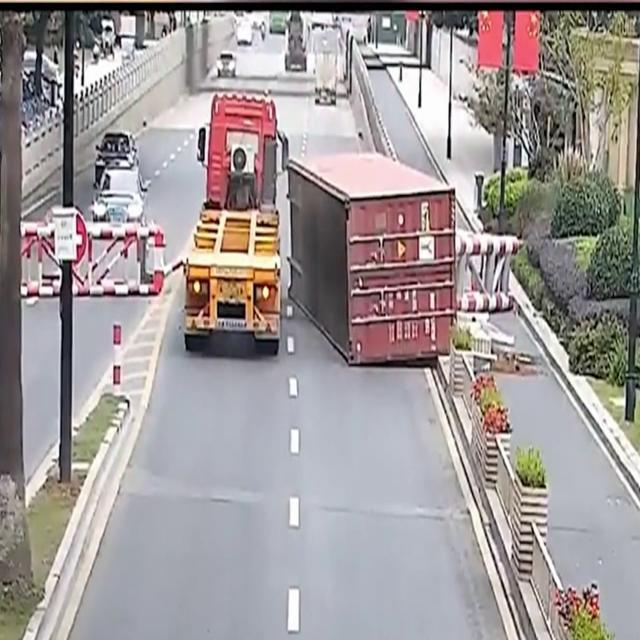normal: (217, 14, 381, 86), (93, 129, 147, 244)
single accident: (194, 111, 427, 350)
